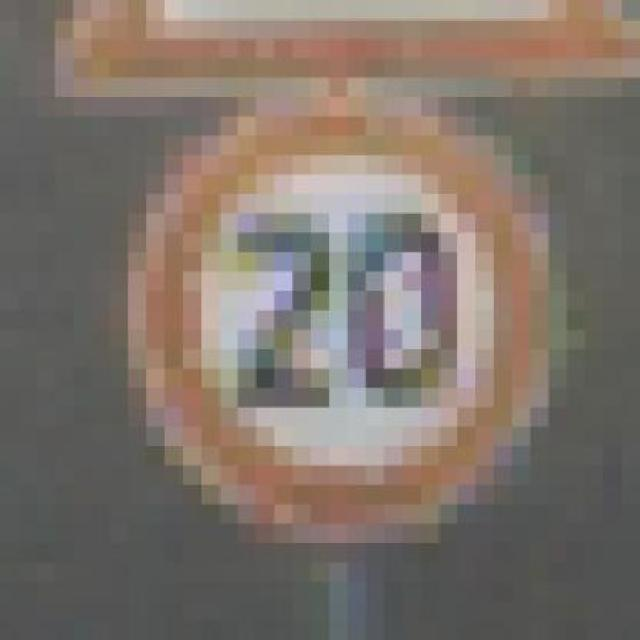forb_speed_over_20: (156, 101, 545, 524)
